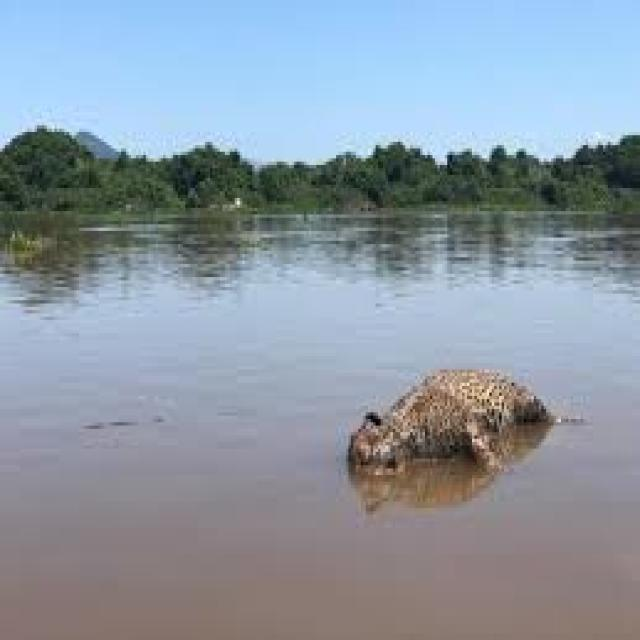Jaguar: (344, 363, 590, 482)
